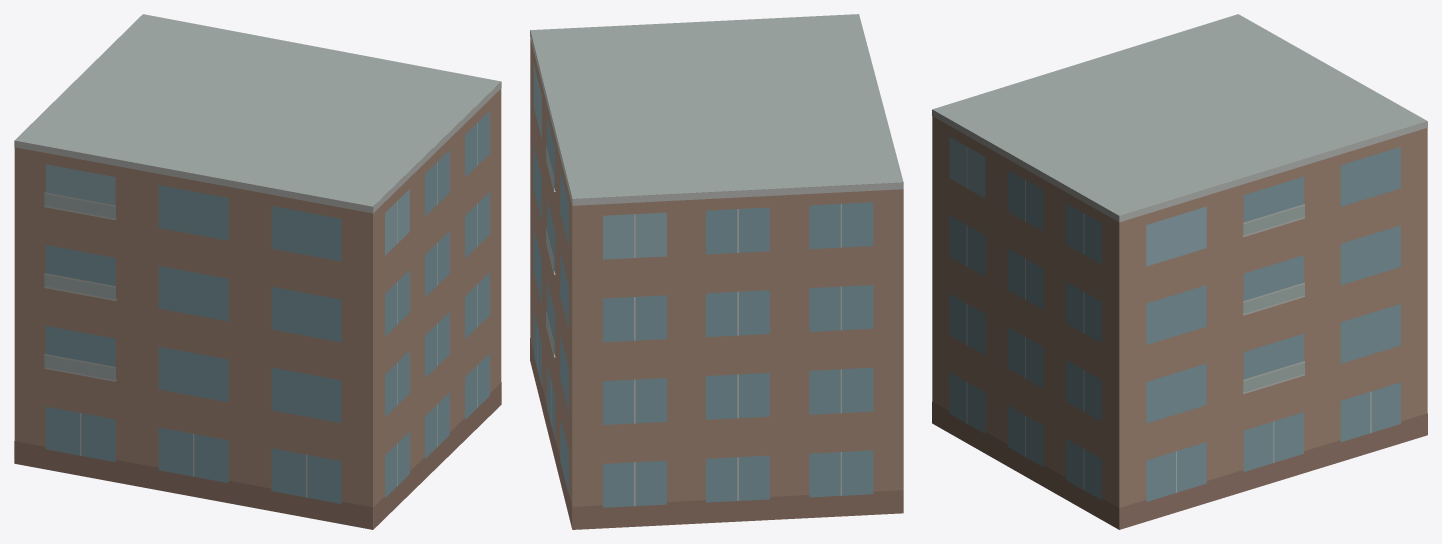
Rendered from survey-upis-33024985.glb.
The picture shows the model from 3 angles, left to right: view 1: azimuth 30°, elevation 25°; view 2: azimuth 150°, elevation 25°; view 3: azimuth 270°, elevation 25°; orthographic projection. The views are drawn at different scales.
Visible parts, largest first — view 1: survey-upis-33024985.tmp; view 2: survey-upis-33024985.tmp; view 3: survey-upis-33024985.tmp.
Boxes of the visible parts, box(x1,y1,x2,y2) form: survey-upis-33024985.tmp: box(14, 14, 501, 529); survey-upis-33024985.tmp: box(530, 14, 903, 529); survey-upis-33024985.tmp: box(932, 14, 1427, 529).
Bounding box in the file's own units: 16.23 × 11.76 × 16.83.
